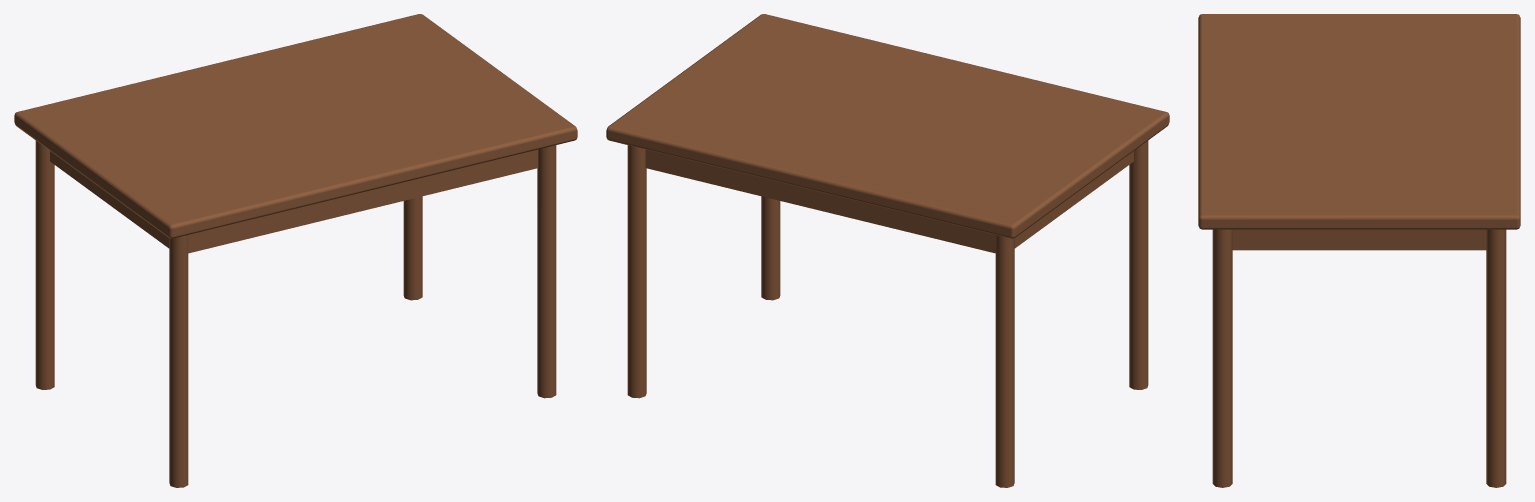
The picture shows the model from 3 angles, left to right: view 1: azimuth 30°, elevation 25°; view 2: azimuth 150°, elevation 25°; view 3: azimuth 270°, elevation 25°; orthographic projection. The views are drawn at different scales.
Parts seen in each view (by area): view 1: top, apron, leg-3, leg-4, leg-1, leg-2; view 2: top, apron, leg-1, leg-2, leg-3, leg-4; view 3: top, apron, leg-2, leg-4.
Part boxes in pixels (left/top/right/bottom): top: left=14, top=14, right=577, bottom=238; apron: left=50, top=149, right=538, bottom=253; leg-3: left=169, top=235, right=188, bottom=487; leg-4: left=537, top=145, right=556, bottom=398; leg-1: left=35, top=140, right=54, bottom=389; leg-2: left=403, top=196, right=422, bottom=300; top: left=606, top=14, right=1169, bottom=238; apron: left=645, top=149, right=1133, bottom=253; leg-1: left=995, top=235, right=1014, bottom=487; leg-2: left=627, top=145, right=646, bottom=398; leg-3: left=1129, top=140, right=1148, bottom=389; leg-4: left=761, top=196, right=780, bottom=300; top: left=1198, top=14, right=1520, bottom=229; apron: left=1232, top=229, right=1486, bottom=250; leg-2: left=1486, top=229, right=1506, bottom=487; leg-4: left=1212, top=229, right=1232, bottom=487.
Size of the model in its own units: 1.2 by 0.76 by 0.8.
